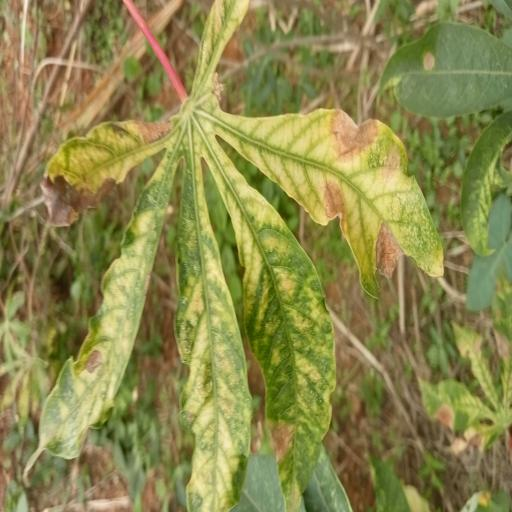Cassava_Root_Rot: (22, 1, 444, 507)
